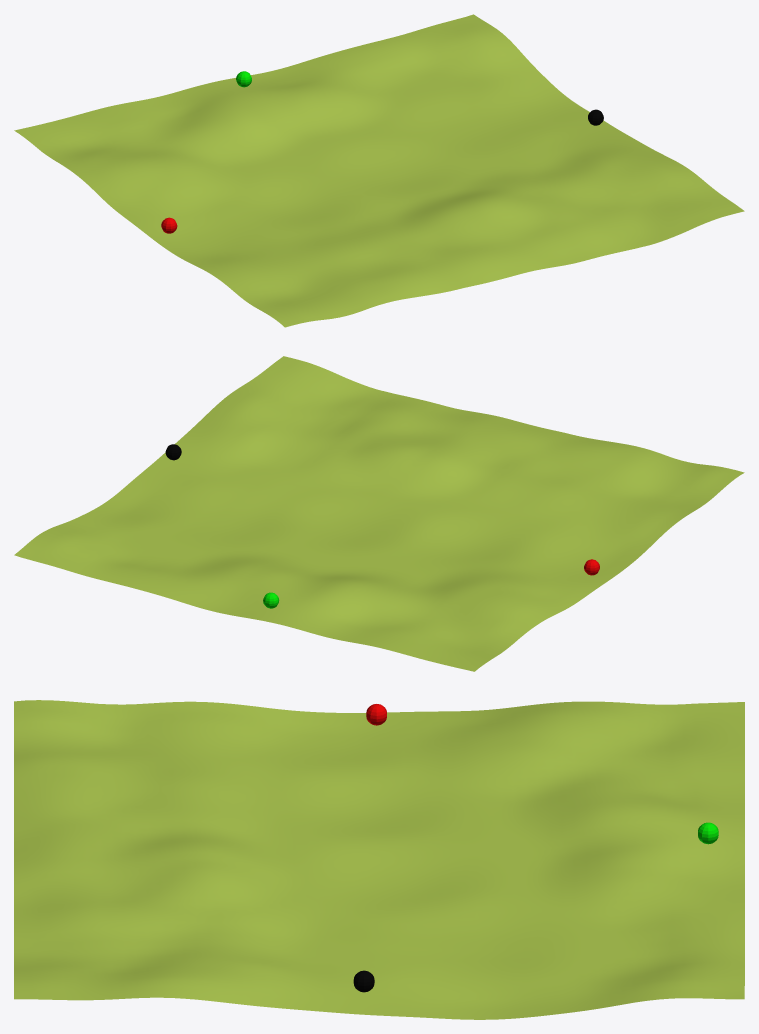
The model's file is marqueurs_carre10.fbx.
The picture shows the model from 3 angles, top to bottom: view 1: azimuth 30°, elevation 25°; view 2: azimuth 150°, elevation 25°; view 3: azimuth 270°, elevation 25°; orthographic projection. The views are drawn at different scales.
Visible parts, largest first — view 1: carre10; view 2: carre10; view 3: carre10.
Boxes of the visible parts, box(x1,y1,x2,y2) form: carre10: box(14, 14, 744, 327); carre10: box(14, 356, 744, 671); carre10: box(14, 700, 744, 1019).
Bounding box in the file's own units: 709 × 39.84 × 720.
